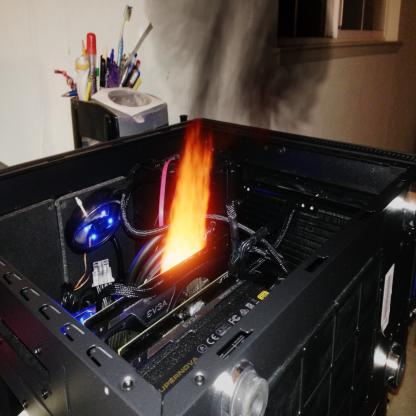fire: (161, 109, 219, 276)
smoke: (136, 0, 336, 136)
